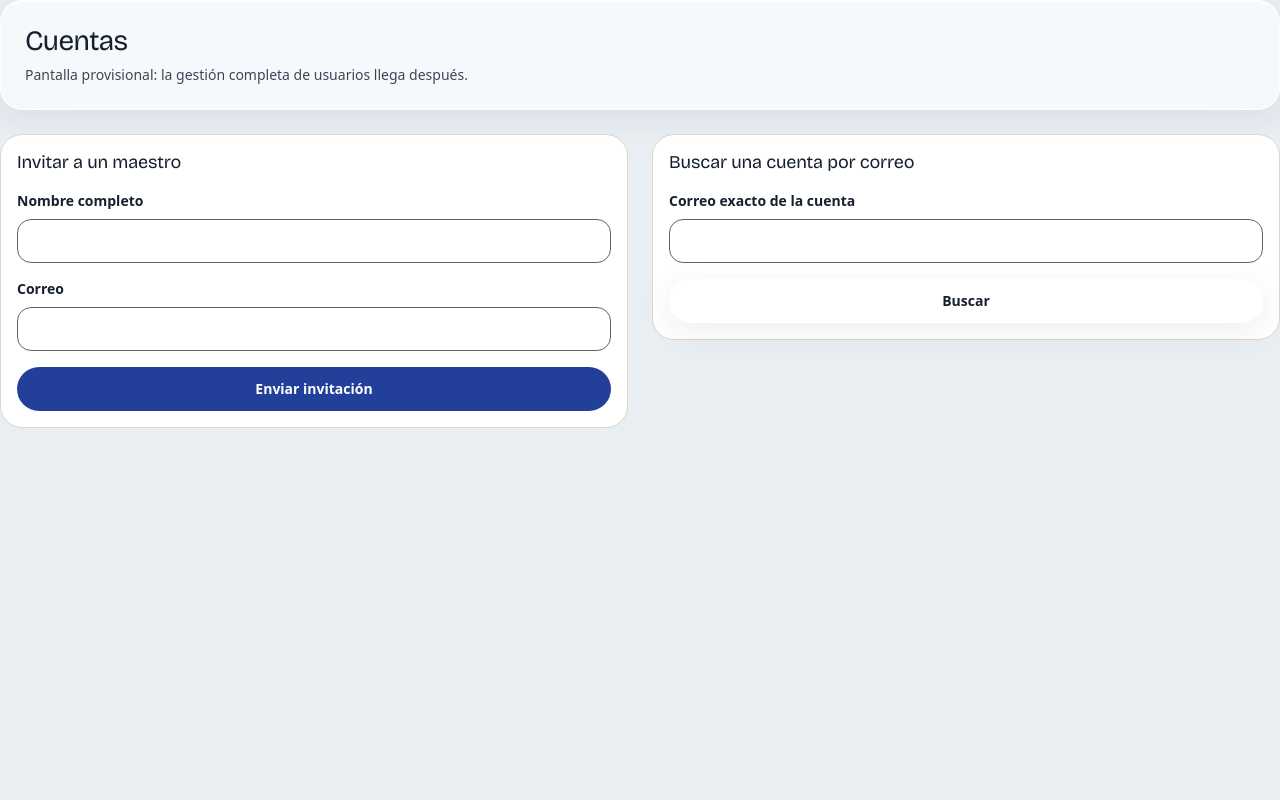
Test: ataque (AUTH-02b r2): la guarda de T-03 se libera y no deja pasar un segundo envío › tras un 500 al restablecer, 'Sí, restablecer' vuelve a funcionar y el reintento muestra la temporal
Type "carla@ejemplo.mx" into the field labelled "Correo exacto de la cuenta" at (966, 241), box [669,219,1263,263]
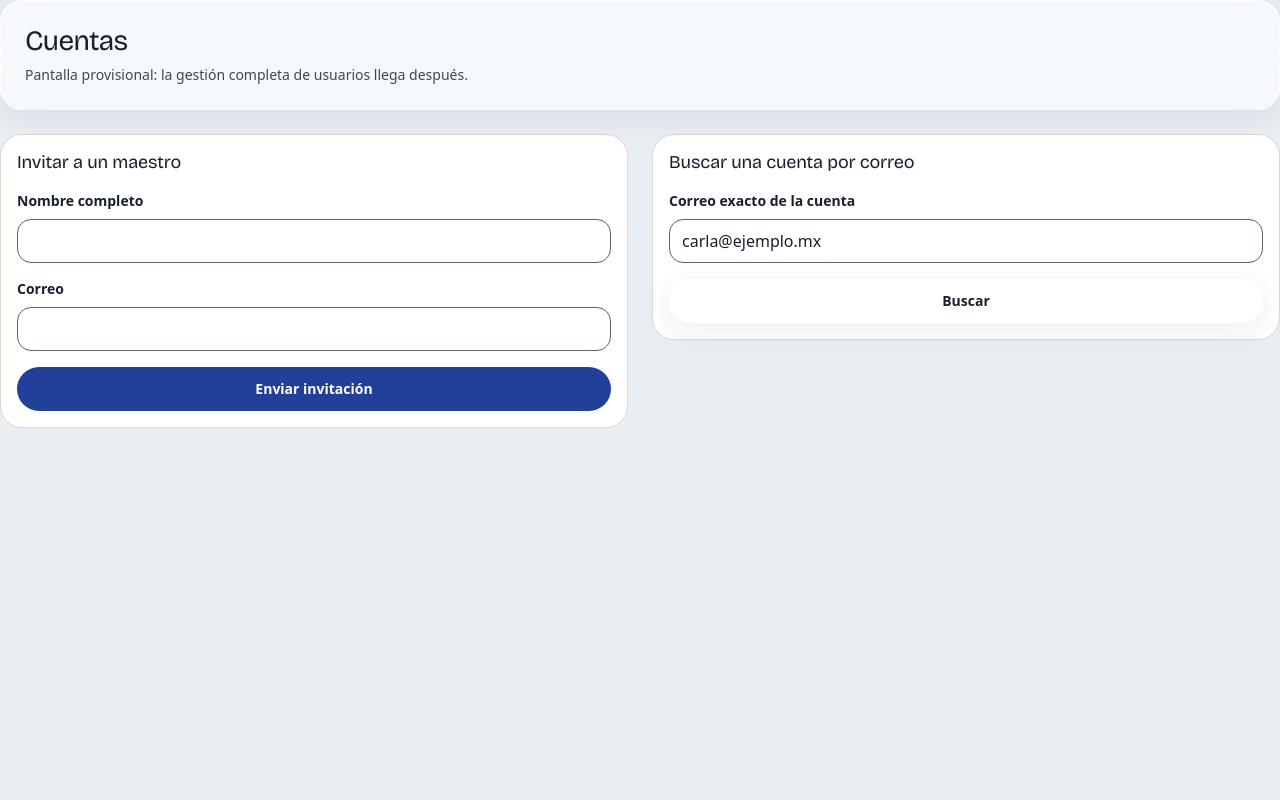
Click the button "Buscar" at (966, 301), box [669,279,1263,323]
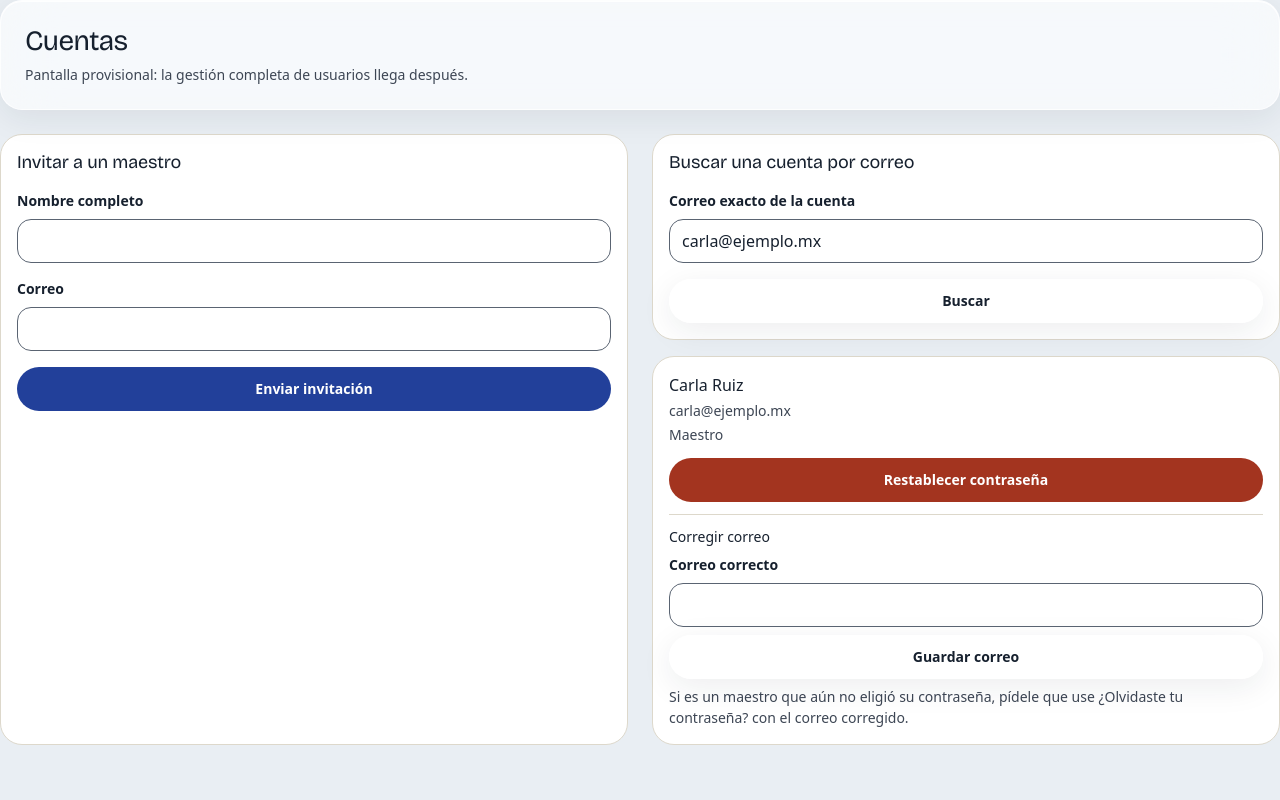
Expected: the text "Carla Ruiz" is shown, [669,374,744,396]
Click the button "Restablecer contraseña" at (966, 480), box [669,458,1263,502]
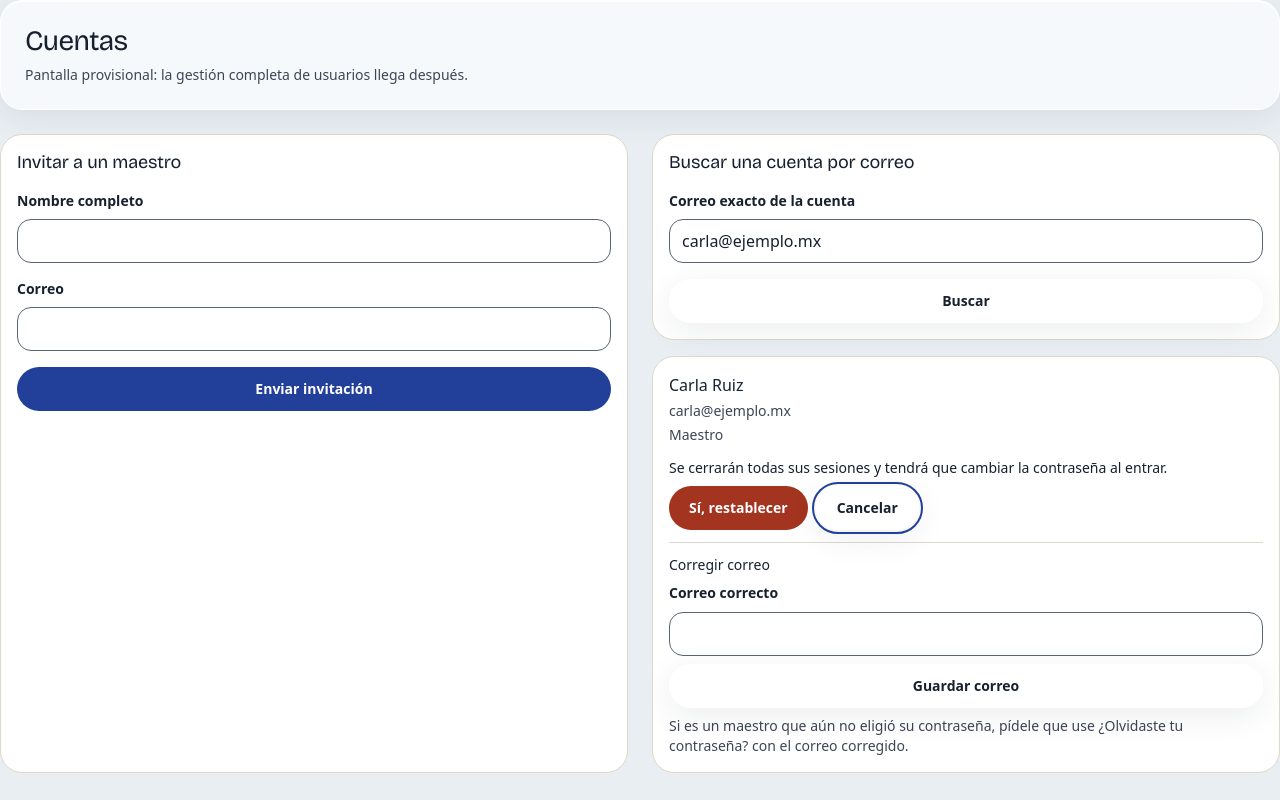
Click the button "Sí, restablecer" at (738, 508), box [669,486,808,530]
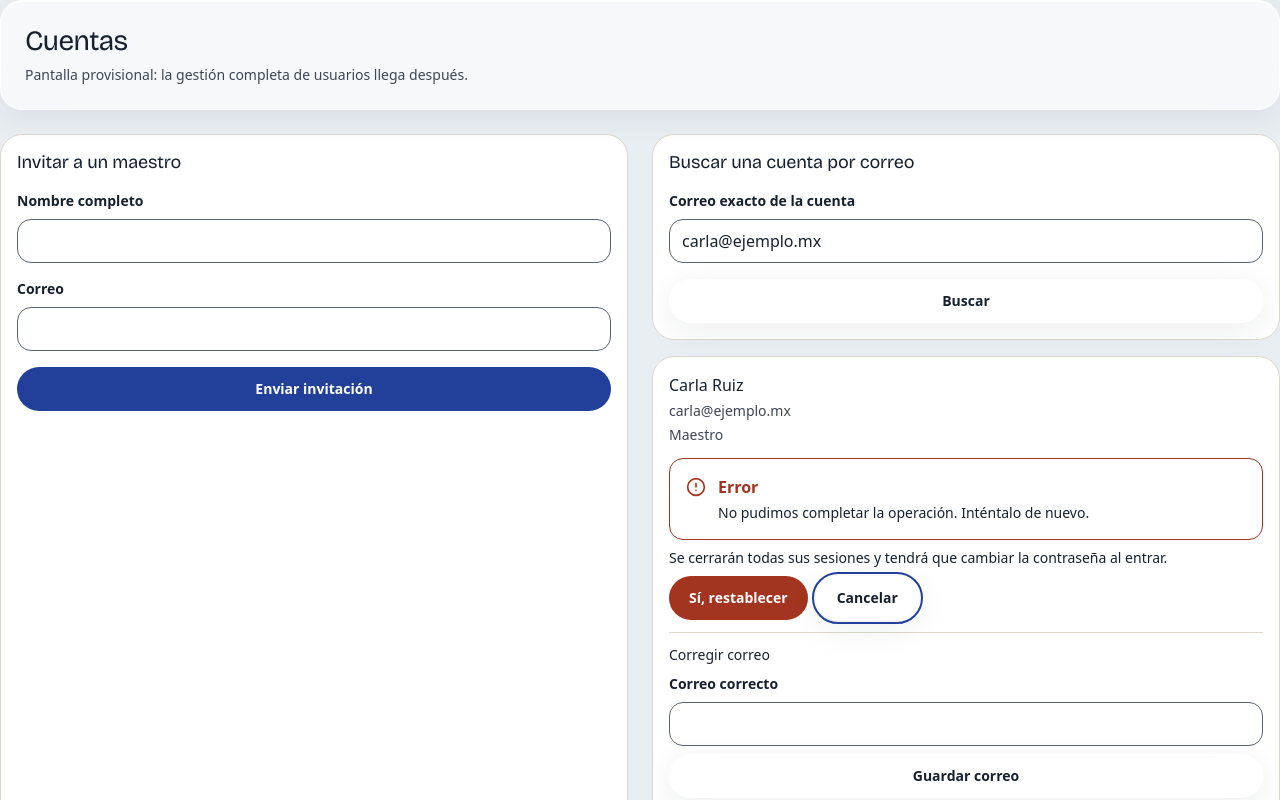
Expected: the message "Error No pudimos completar la operación. Inténtalo de nuevo." is shown, [669,458,1263,540]
Click the button "Sí, restablecer" at (738, 598), box [669,576,808,620]
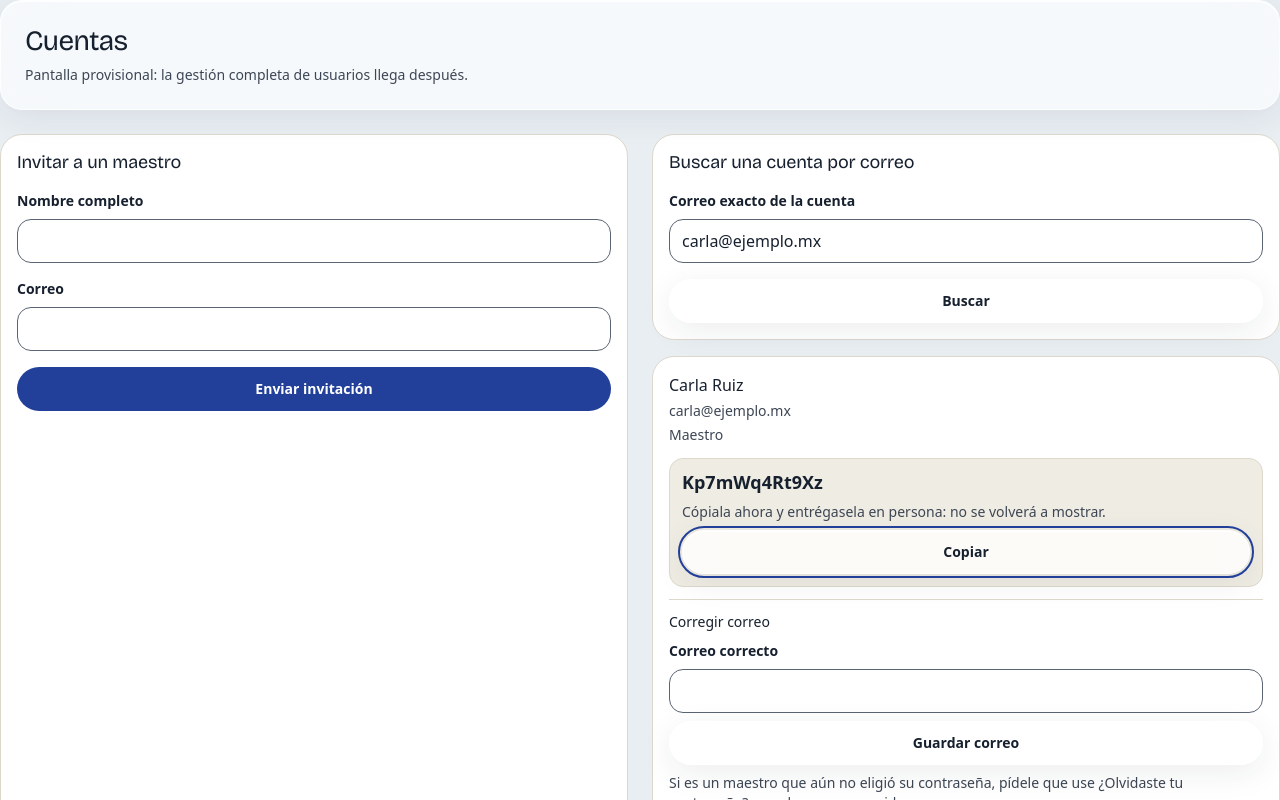
Expected: the text "Kp7mWq4Rt9Xz" is shown, [682,470,823,494]
